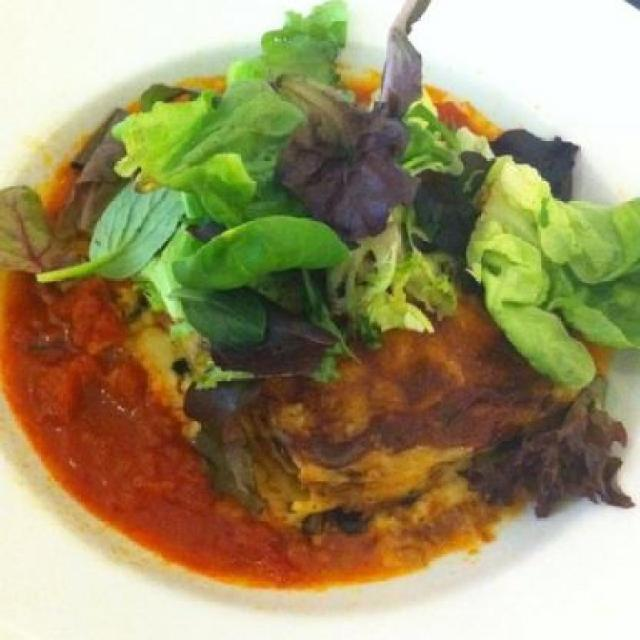Lasagna: (44, 254, 560, 582)
